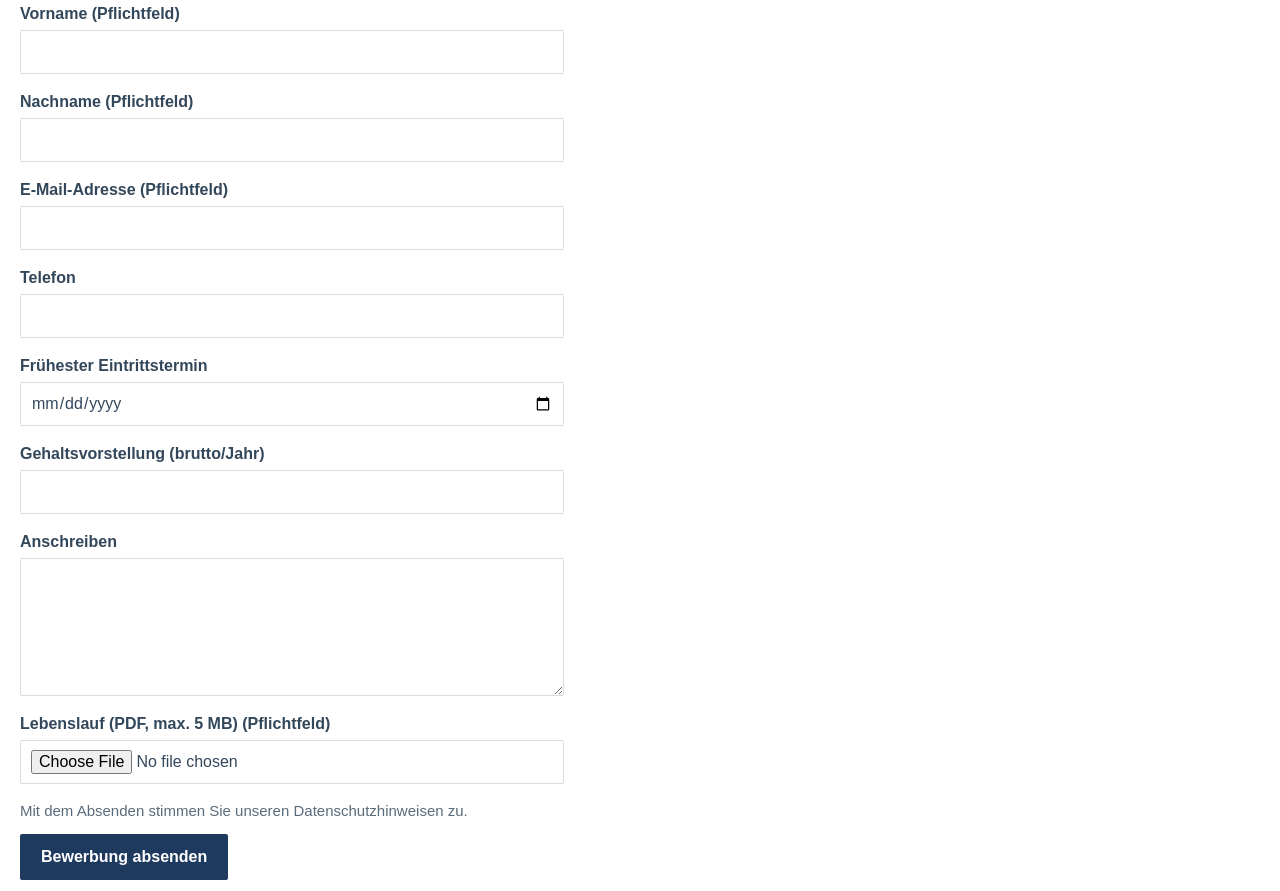
Test: ApplicationFormStepComponent (docs/SPEC_v1.md Slice 8) › the four barriers switch independently › resolves all four together for `frei=alle`
The image size is (1280, 891).
(page scrolled)
Click the button with class "submit-button". click: (124, 857)
box: [20, 834, 228, 880]
(page scrolled)
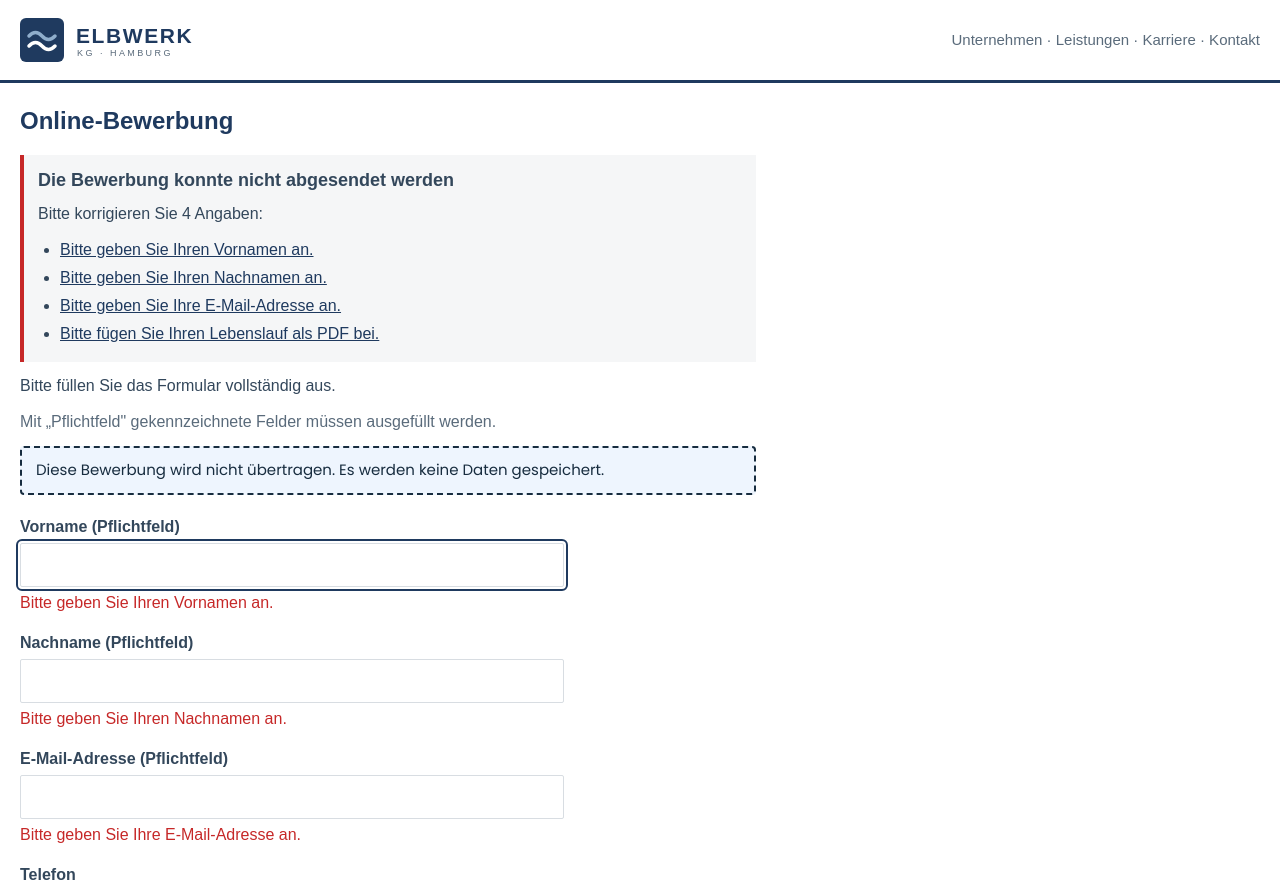
Result: the message with class "error-summary" is shown at [20, 155, 756, 362]
